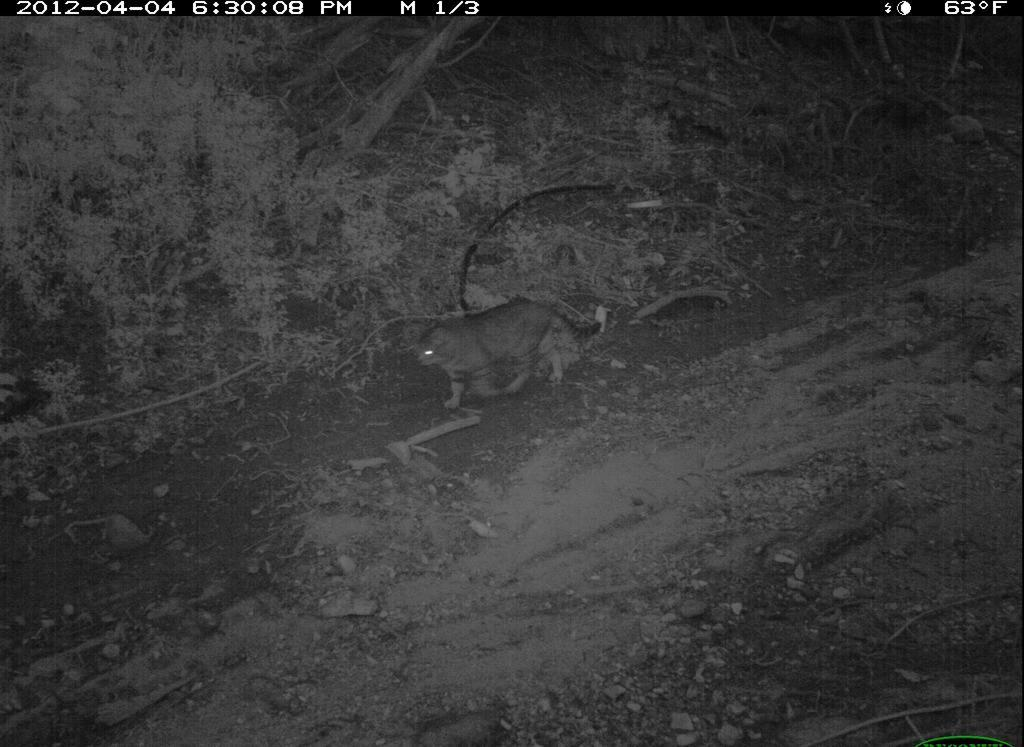cat: (395, 292, 610, 410)
